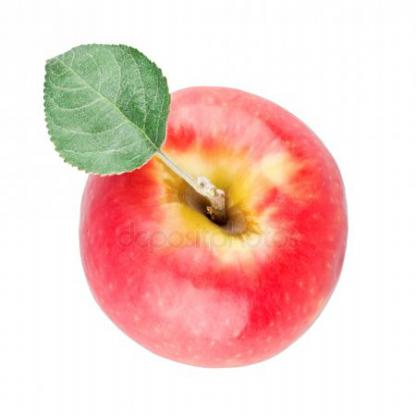Apple leaf: (36, 42, 175, 186)
